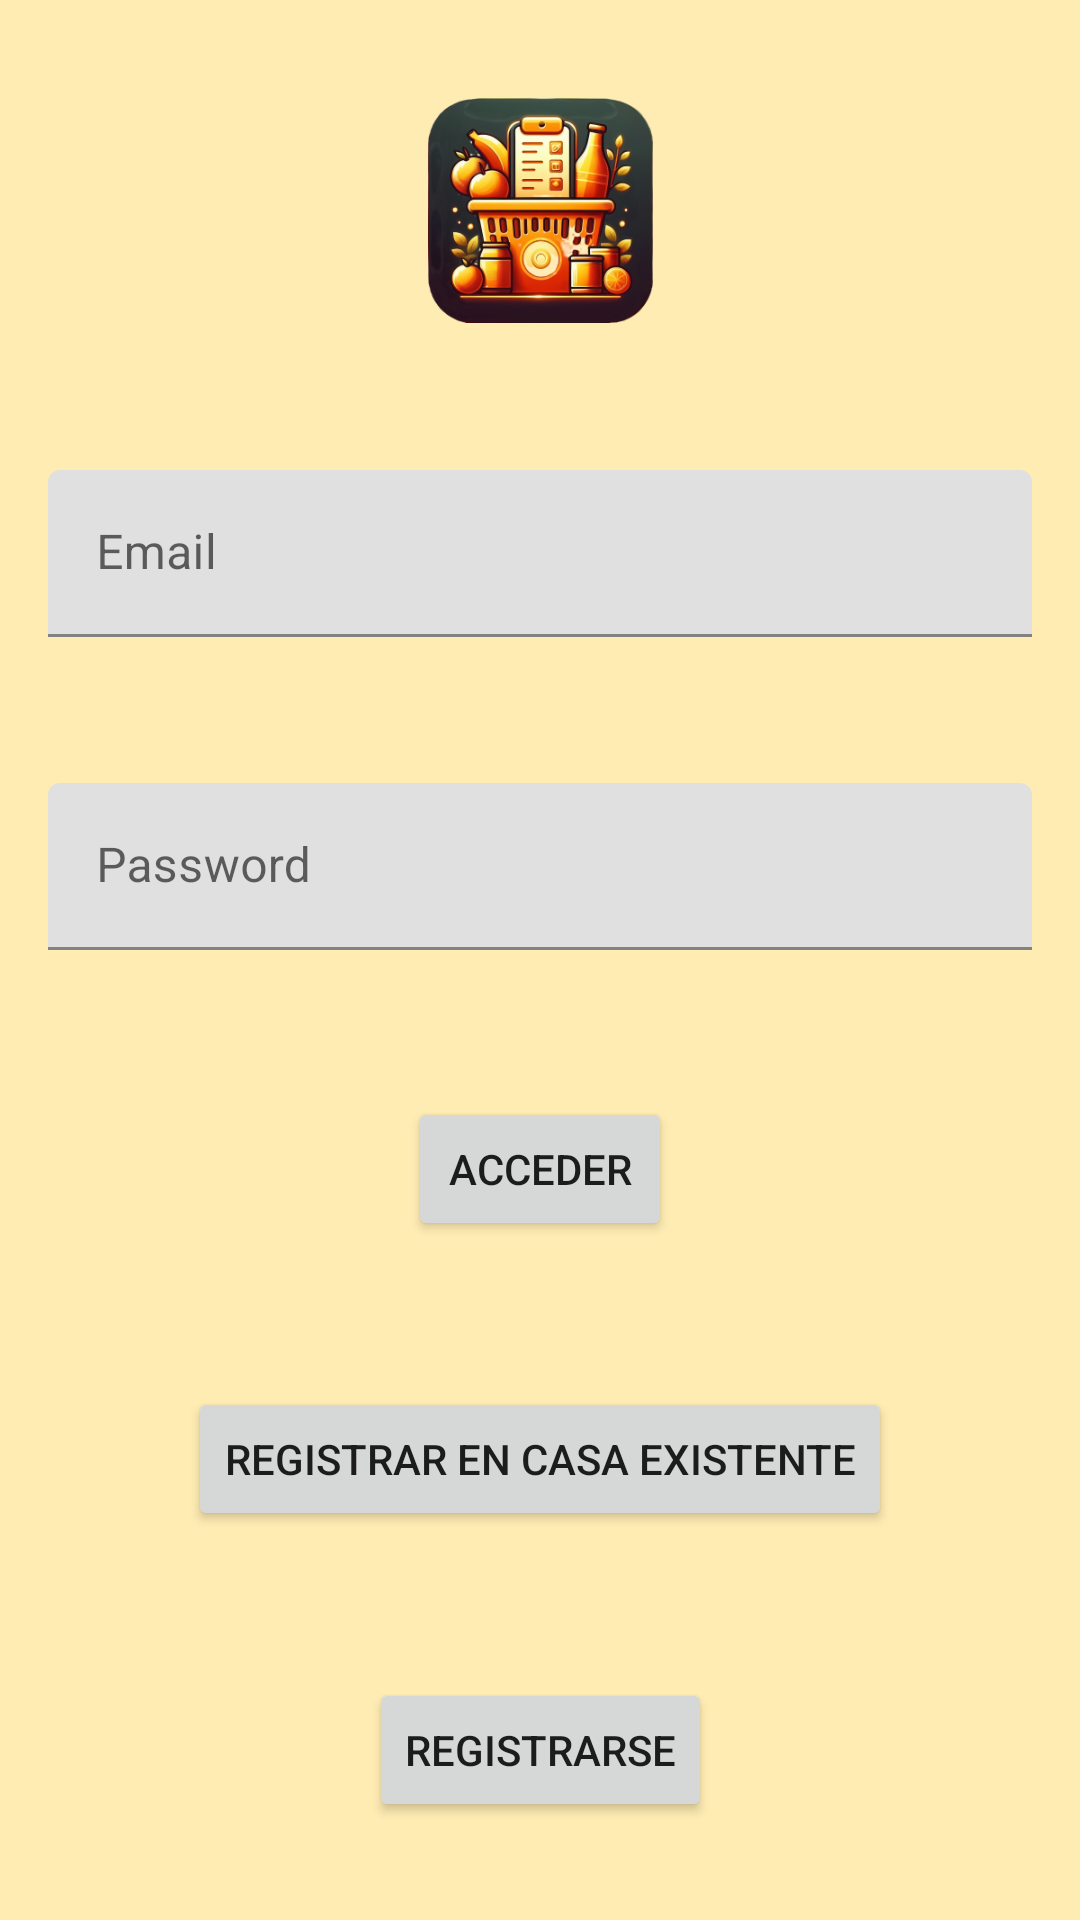

Screen size 1080*1920. Icon name, then its box in pixels as box=[x1, y1, x2, y2]:
midespensapp: box=[428, 98, 653, 323]
